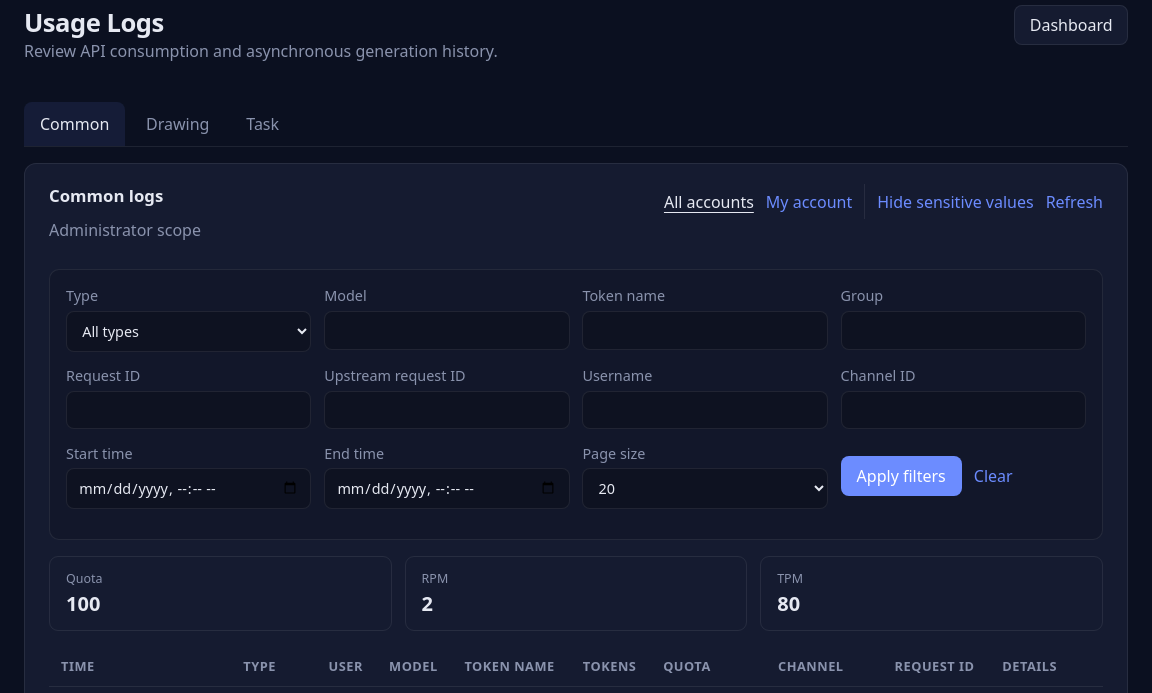
Scenario: UsageLogsView › masks and restores the reference-sensitive common values locally
Click the button "Hide sensitive values": click(955, 202) [877,184,1034,219]
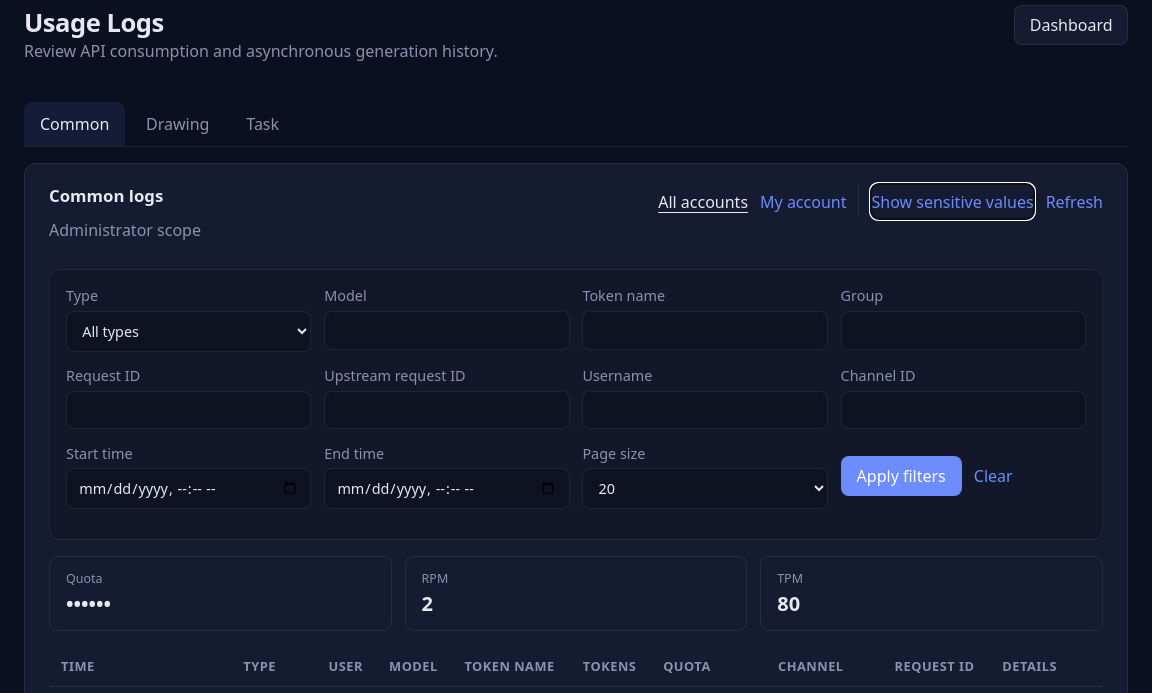
Check: the text "primary" is not shown
Check: the text "alice" is not shown
Click the button "Show sensitive values": click(953, 202) [872,184,1034,219]
(page scrolled)
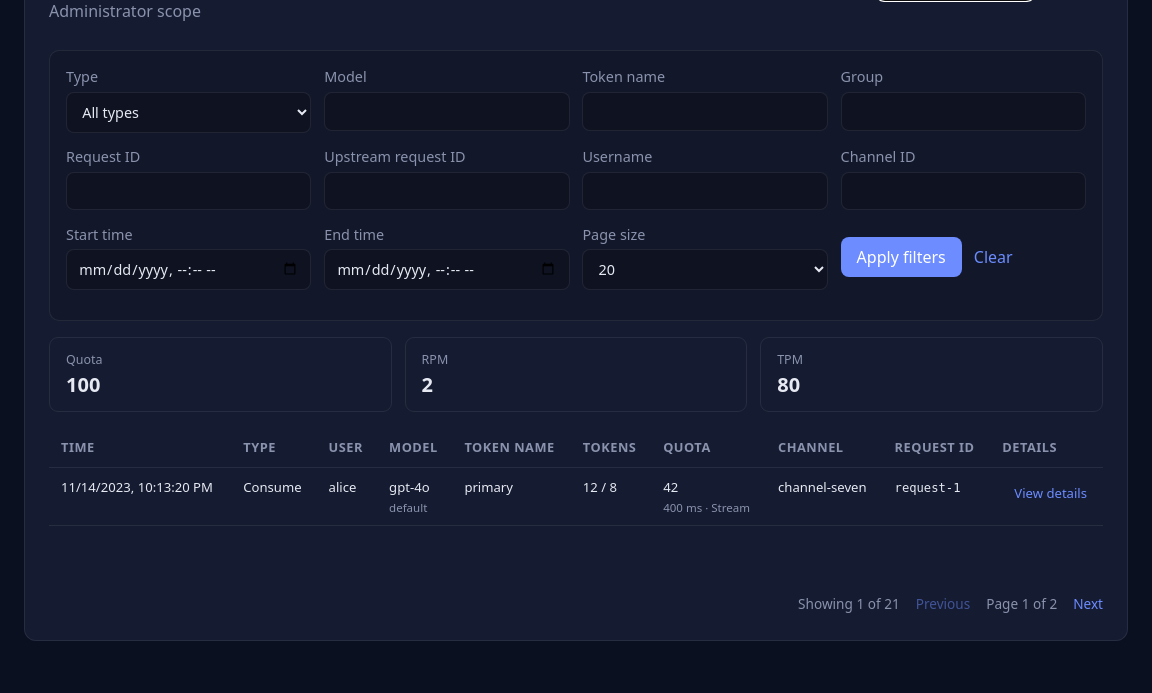
Check: the text "primary" is shown, box [452,468,571,526]
Check: the text "alice" is shown, box [317,468,377,526]
